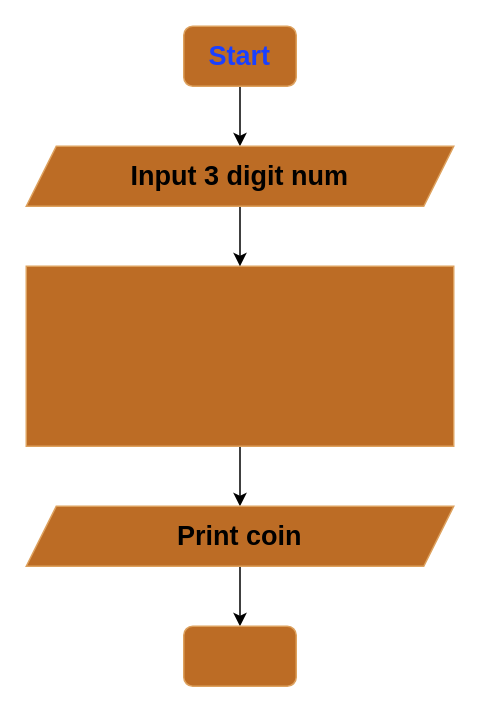
The diagram is 480 pixels wide and 713 high, and some of its shapes have lost their labels. Here are the shapes that lost their labels. From the top down, the box of each, then its label:
(25, 265, 454, 446): un = num % 10; tn = (num / 10) % 10; hd = (num / 100) % 100;
(182, 625, 296, 686): Stop
